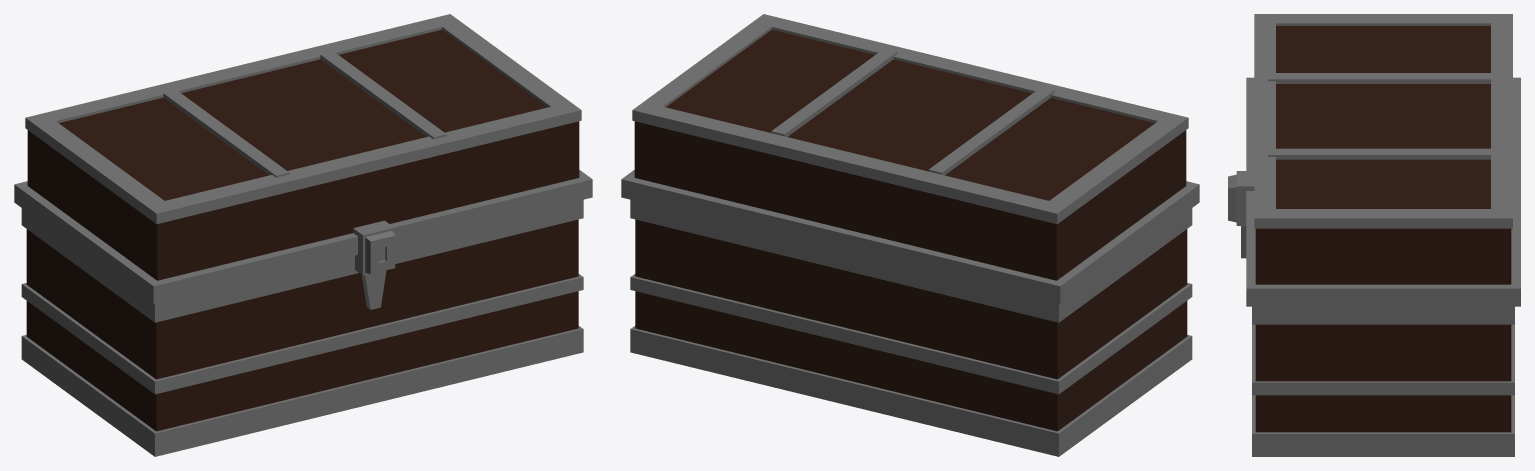
File: SM_chest_full_01.fbx
3 views of the same model, side by side, from view 1: azimuth 30°, elevation 25°; view 2: azimuth 150°, elevation 25°; view 3: azimuth 270°, elevation 25° (orthographic).
Visible parts, largest first — view 1: Cylinder051; view 2: Cylinder051; view 3: Cylinder051.
Part boxes in pixels (x1,y1,x2,y2): Cylinder051: (14,14,592,456); Cylinder051: (621,14,1199,456); Cylinder051: (1228,14,1520,456).
Bounding box in the file's own units: 48.29 × 25.61 × 28.32.
